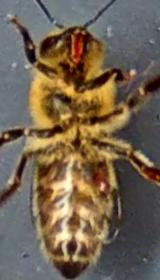varroa_mite: (81, 166, 114, 197)
